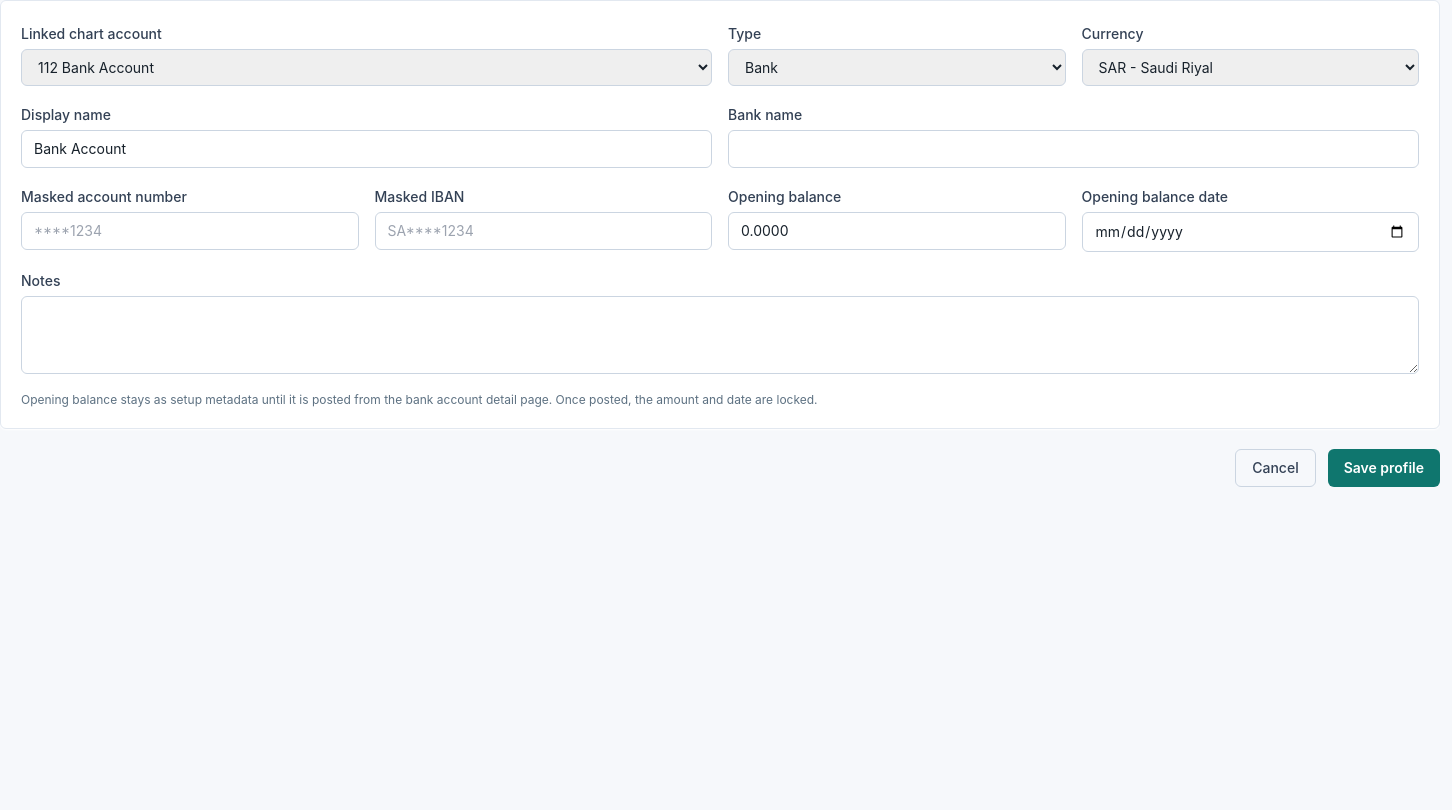
Scenario: BankAccountProfileForm › requires selecting a supported currency before save
The image size is (1452, 810).
Expected: the dropdown labelled "Linked chart account" shows "112 Bank Account", 21,49 -> 712,86
Select "Select currency" in the dropdown labelled "Currency" at (1250, 68), box 1082,49 -> 1419,86
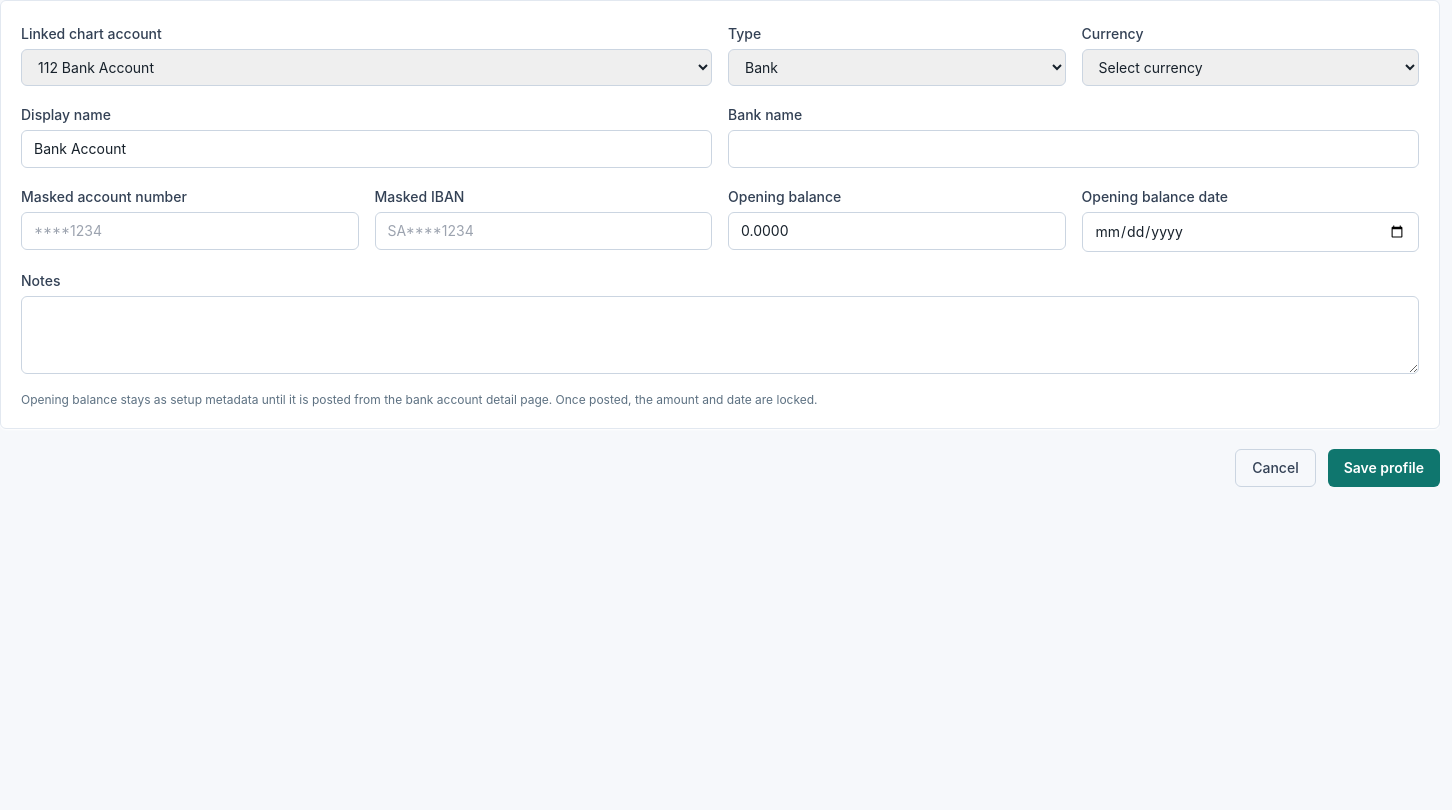
Click the button "Save profile" at (1384, 468), box 1328,449 -> 1440,487
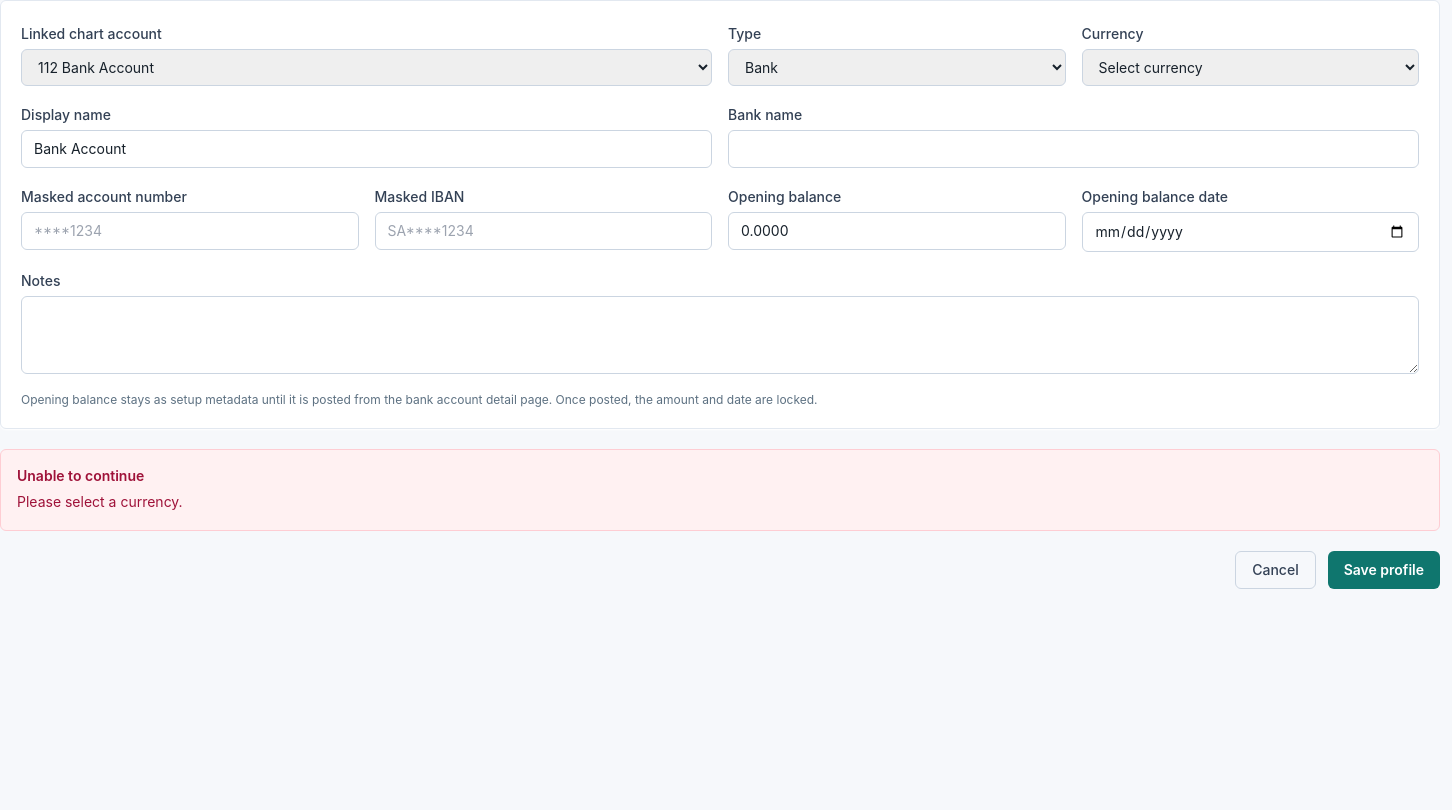
Expected: the text "Please select a currency." is shown, 17,493 -> 183,510
